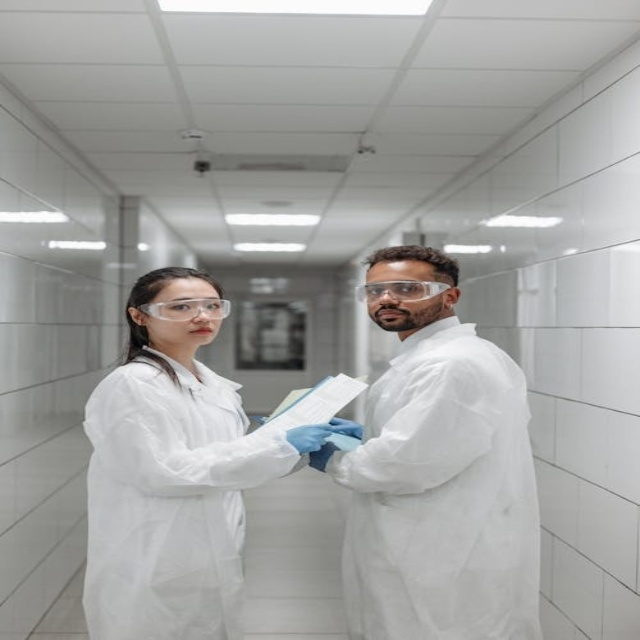Gafas: (356, 280, 453, 303), (137, 298, 232, 321)
Guantes: (278, 422, 336, 457), (328, 416, 365, 436)
Sin_mascara: (367, 307, 413, 331), (180, 324, 218, 345)
